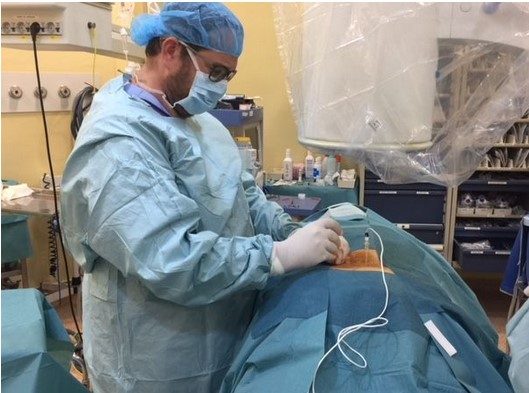face_with_mask: (128, 7, 242, 115)
